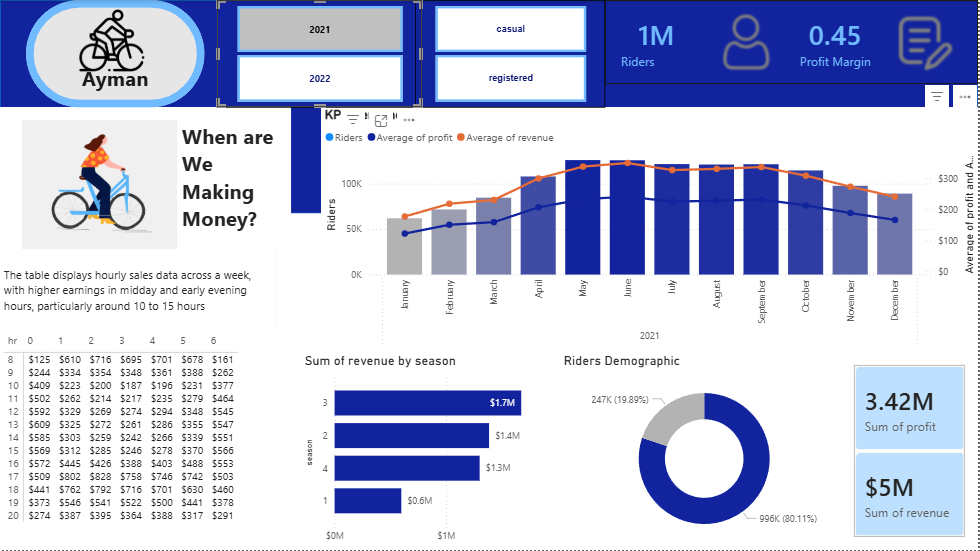

The page's visual inventory and layout, read from the dashboard file:
{"tool":"powerbi","page":{"name":"Page 1","canvas":[1280,720],"ordinal":0},"visuals":[{"type":"shape","box":[0,0,1280,279.4],"z":0},{"type":"cardVisual","fields":{"Data":["Sum(Query1.revenue)"]},"box":[0,140.5,381,579],"z":1000},{"type":"cardVisual","fields":{"Data":["Sum(Query1.revenue)"]},"box":[0,140.5,296.3,203.2],"z":2000},{"type":"cardVisual","fields":{"Data":["Sum(Query1.revenue)"]},"box":[492.7,404.7,787.3,314.9],"z":3000},{"type":"cardVisual","fields":{"Data":["Sum(Query1.revenue)"]},"box":[419.9,140.5,860.1,264.1],"z":4000},{"type":"pivotTable","fields":{"Rows":["Query1.hr"],"Values":["Avg(Query1.revenue)"],"Columns":["Query1.weekday"]},"box":[0,430.1,381,289.5],"z":5000},{"type":"textbox","box":[233.7,154.1,147.3,171],"z":6000},{"type":"textbox","box":[0,343.7,336.9,86.3],"z":7000},{"type":"lineClusteredColumnComboChart","title":"KPI over time","fields":{"Y":["Sum(Query1.riders)"],"Category":["Query1.dteday.Variation.Date Hierarchy.Year","Query1.dteday.Variation.Date Hierarchy.Month","Query1.dteday.Variation.Date Hierarchy.Day"],"Y2":["Avg(Query1.profit)","Avg(Query1.revenue)"]},"box":[419.9,140.5,860.1,321.7],"z":8000},{"type":"clusteredBarChart","fields":{"Category":["Query1.season"],"Y":["Sum(Query1.revenue)"]},"box":[394.5,462.2,338.6,257.4],"z":9000},{"type":"donutChart","title":"Riders Demographic","fields":{"Y":["Sum(Query1.riders)"],"Category":["Query1.rider_type"]},"box":[733.1,462.2,377.6,257.4],"z":10000},{"type":"cardVisual","title":"KPI over time","fields":{"Data":["Sum(Query1.profit)","Sum(Query1.revenue)"]},"box":[1100.5,460.5,179.5,259],"z":11000},{"type":"cardVisual","fields":{"Data":["Sum(Query1.riders)","Query1.Profit Margin"]},"box":[792.4,0,487.6,110.1],"z":12000},{"type":"shape","box":[33.9,0,233.7,140.5],"z":13000},{"type":"image","box":[59.3,10.2,174.4,84.7],"z":14000},{"type":"slicer","fields":{"Values":["Query1.rider_type"]},"box":[543.5,0,248.9,140.5],"z":15000},{"type":"slicer","fields":{"Values":["Query1.Year"]},"box":[284.4,0,267.5,140.5],"z":16000}]}

Visuals, with their boxes on the page's 1280x720 design canvas (x1, y1, x2, y2). These are canvas units, not pixel positions in the 980x551 screenshot, which may show the page scaled, cropped or inside an application window:
shape: pyautogui.locateOnScreen(0, 0, 1280, 279)
cardVisual - Sum(Query1.revenue): pyautogui.locateOnScreen(0, 140, 381, 720)
cardVisual - Sum(Query1.revenue): pyautogui.locateOnScreen(0, 140, 296, 344)
cardVisual - Sum(Query1.revenue): pyautogui.locateOnScreen(493, 405, 1280, 720)
cardVisual - Sum(Query1.revenue): pyautogui.locateOnScreen(420, 140, 1280, 405)
pivotTable - Query1.hr x Avg(Query1.revenue): pyautogui.locateOnScreen(0, 430, 381, 720)
textbox: pyautogui.locateOnScreen(234, 154, 381, 325)
textbox: pyautogui.locateOnScreen(0, 344, 337, 430)
"KPI over time" lineClusteredColumnComboChart: pyautogui.locateOnScreen(420, 140, 1280, 462)
clusteredBarChart - Query1.season x Sum(Query1.revenue): pyautogui.locateOnScreen(394, 462, 733, 720)
"Riders Demographic" donutChart: pyautogui.locateOnScreen(733, 462, 1111, 720)
"KPI over time" cardVisual: pyautogui.locateOnScreen(1100, 460, 1280, 720)
cardVisual - Sum(Query1.riders) x Query1.Profit Margin: pyautogui.locateOnScreen(792, 0, 1280, 110)
shape: pyautogui.locateOnScreen(34, 0, 268, 140)
image: pyautogui.locateOnScreen(59, 10, 234, 95)
slicer - Query1.rider_type: pyautogui.locateOnScreen(544, 0, 792, 140)
slicer - Query1.Year: pyautogui.locateOnScreen(284, 0, 552, 140)
